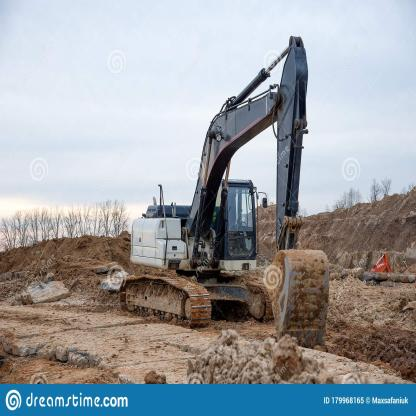excavator: (101, 24, 332, 356)
